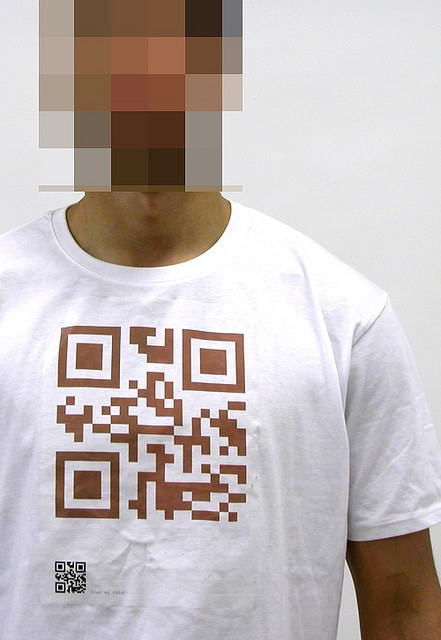QR-CODE: (55, 325, 247, 521), (55, 561, 85, 592)
